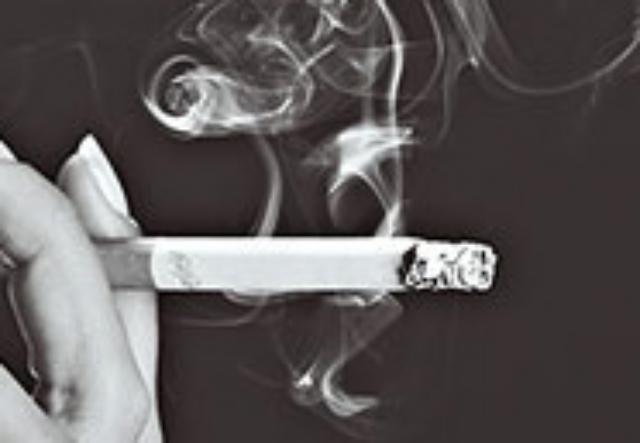Cigarette: (15, 238, 498, 292)
